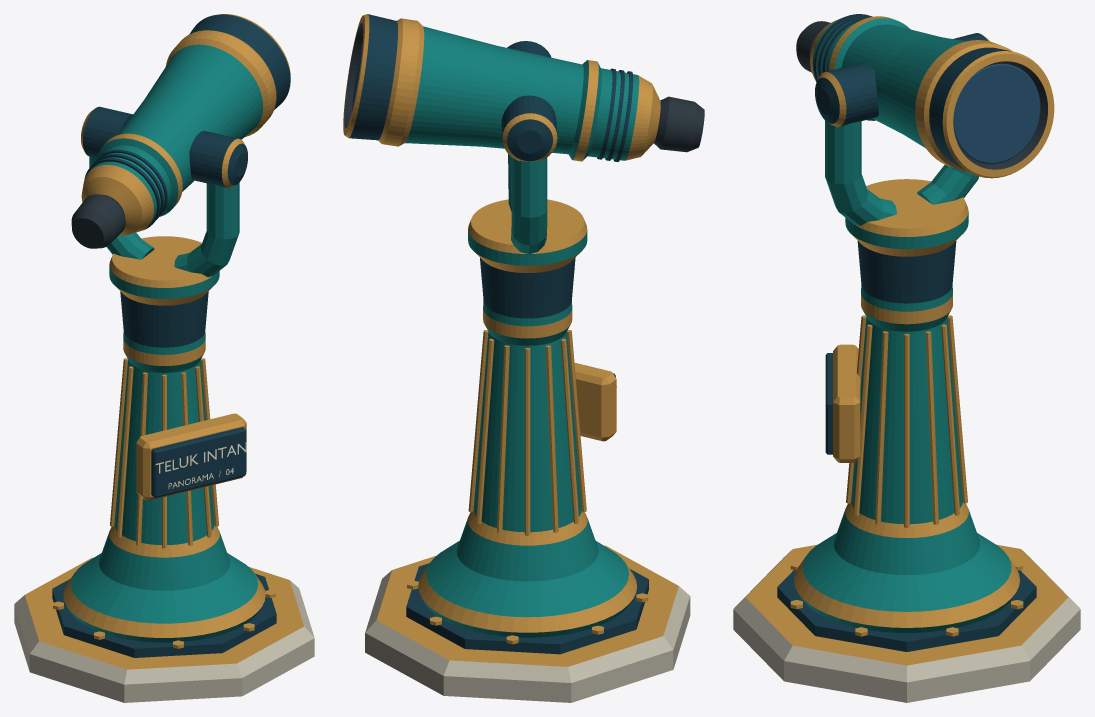
3 renders of one model, left to right at view 1: azimuth 30°, elevation 25°; view 2: azimuth 150°, elevation 25°; view 3: azimuth 270°, elevation 25°, orthographic. The views are drawn at different scales.
Visible parts, largest first — view 1: Survey Pedestal, Spun Brass Viewing Barrel, Gimballed Swivel Yoke, Riverfront Foundry Plate; view 2: Survey Pedestal, Spun Brass Viewing Barrel, Gimballed Swivel Yoke, Riverfront Foundry Plate; view 3: Survey Pedestal, Spun Brass Viewing Barrel, Gimballed Swivel Yoke, Riverfront Foundry Plate.
Part boxes in pixels (left/top/right/bottom): Survey Pedestal: left=14, top=236, right=314, bottom=702; Spun Brass Viewing Barrel: left=71, top=14, right=290, bottom=248; Gimballed Swivel Yoke: left=81, top=106, right=247, bottom=276; Riverfront Foundry Plate: left=136, top=413, right=246, bottom=500; Survey Pedestal: left=365, top=199, right=690, bottom=702; Spun Brass Viewing Barrel: left=343, top=14, right=704, bottom=161; Gimballed Swivel Yoke: left=501, top=41, right=557, bottom=254; Riverfront Foundry Plate: left=574, top=362, right=616, bottom=441; Survey Pedestal: left=733, top=179, right=1080, bottom=702; Spun Brass Viewing Barrel: left=796, top=14, right=1054, bottom=178; Gimballed Swivel Yoke: left=815, top=33, right=989, bottom=225; Riverfront Foundry Plate: left=825, top=344, right=860, bottom=462.
Size of the model in its own units: 0.8616 by 1.68 by 0.83.
